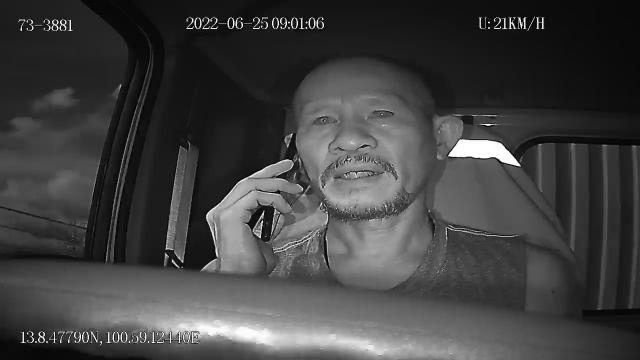PhoneUse: (258, 130, 300, 242)
SafeDriving: (361, 98, 404, 127), (304, 105, 345, 134)
